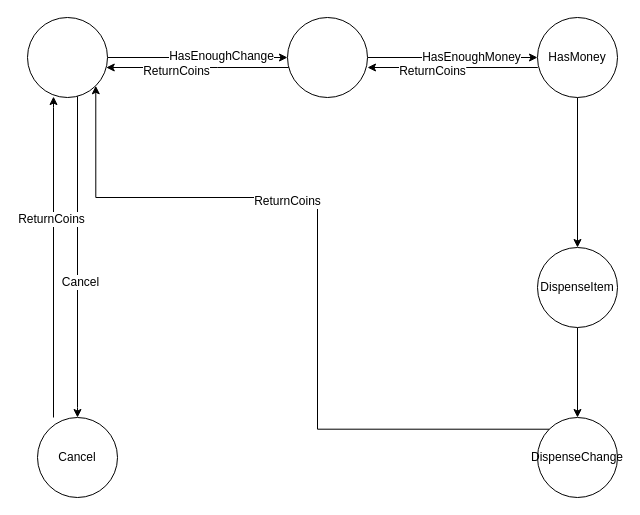
Image size: 640x515. Some labels were removed from this diagram. The shapes that lost their labels are listed below. From the top down, each one's centre as x and y in pixels, then its label:
At [67,57]: "Ready".
At [327,57]: "HasChange".
